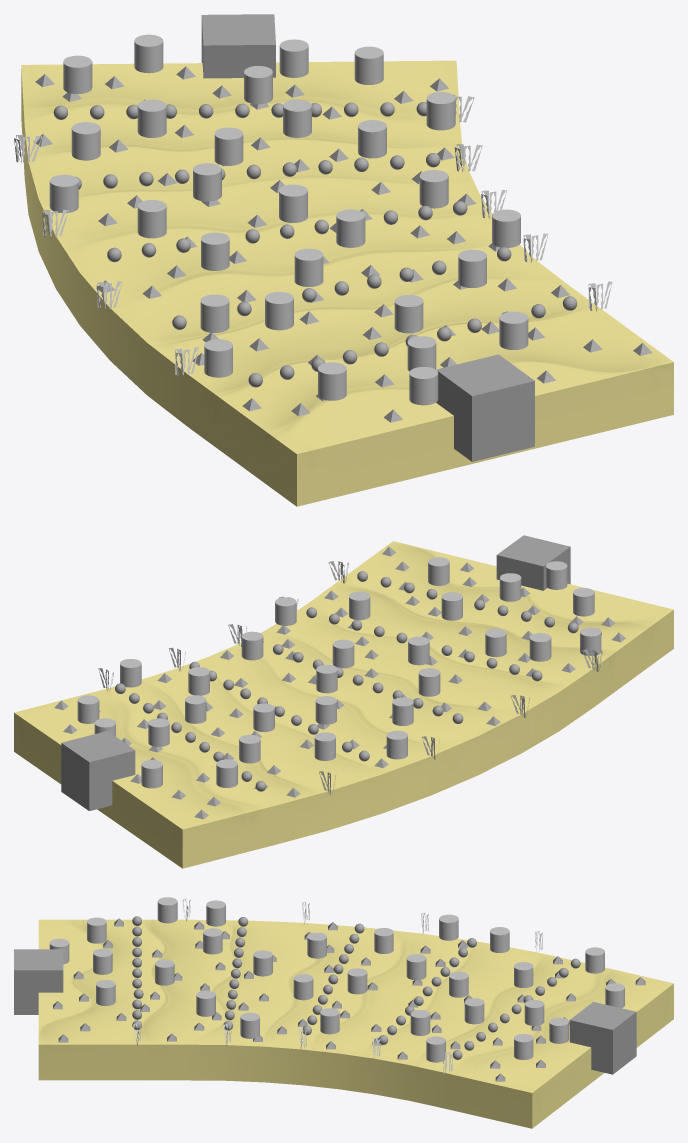
File: assets006_Streckenteil_rechts002.fbx
3 views of the same model, one above another, from view 1: azimuth 30°, elevation 25°; view 2: azimuth 150°, elevation 25°; view 3: azimuth 270°, elevation 25° (orthographic). The views are drawn at different scales.
Parts seen in each view (by area): view 1: streckenteil_rechtskurve_geo2, a (×12), b (×10), startpoint, c (×6), startpoint2, d; view 2: streckenteil_rechtskurve_geo2, a (×12), b (×10), startpoint2, c (×5), startpoint, d; view 3: streckenteil_rechtskurve_geo2, a (×11), b (×10), startpoint2, c (×6), startpoint, d.
Part boxes in pixels (x1,y1,x2,y2): streckenteil_rechtskurve_geo2: (21,60,673,506); a (×12): (200,170,528,405); b (×10): (49,92,455,286); startpoint: (436,354,534,461); c (×6): (63,39,383,165); startpoint2: (201,14,275,78); d: (134,34,163,73); streckenteil_rechtskurve_geo2: (14,541,673,868); a (×12): (241,557,601,668); b (×10): (120,636,440,760); startpoint2: (61,731,135,810); c (×5): (77,695,274,787); startpoint: (496,535,570,590); d: (141,760,162,788); streckenteil_rechtskurve_geo2: (38,919,673,1128); a (×11): (87,897,339,1038); b (×10): (253,914,509,1062); startpoint2: (569,1002,636,1074); c (×6): (449,947,604,1059); startpoint: (14,949,63,1014); d: (605,983,624,1008).
Bounding box in the file's own units: 42.63 × 7.5 × 66.95.
